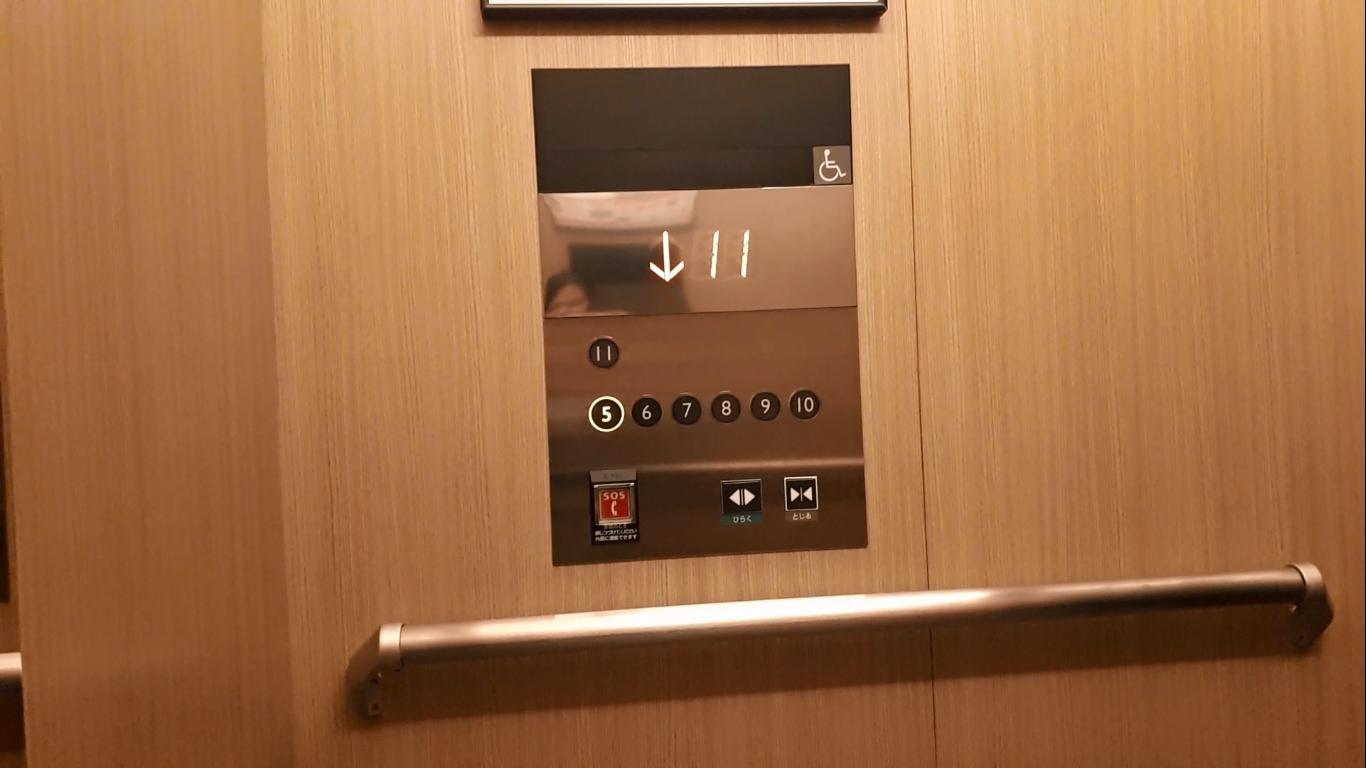10: (788, 387, 821, 421)
11: (587, 334, 621, 369)
5: (587, 391, 626, 438)
6: (630, 392, 663, 431)
7: (666, 390, 701, 427)
8: (710, 388, 743, 424)
9: (750, 388, 783, 424)
CH: (810, 143, 853, 186)
call: (589, 477, 639, 530)
close: (778, 474, 822, 514)
led: (543, 190, 858, 316)
open: (717, 477, 763, 516)
